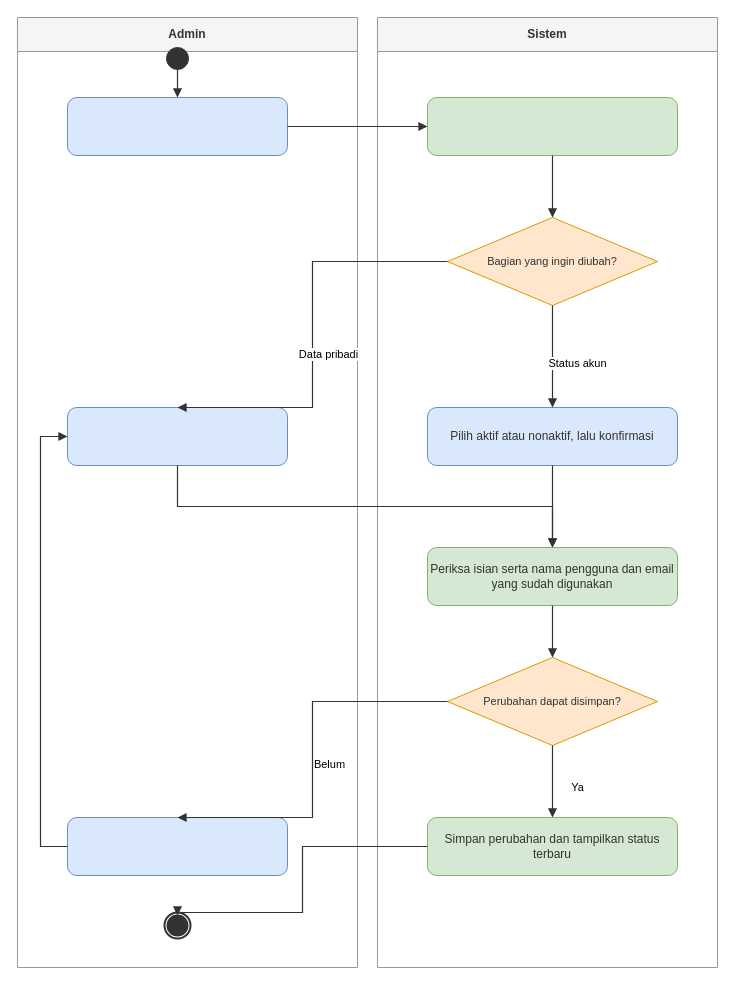
This 735x985 diagram has some shape labels left out. Here are the shapes that lost their labels. From the top down, the centre of each, then its label:
the point at 177,126: Buka daftar dan pilih pelanggan
the point at 552,126: Tampilkan nama, email, nomor telepon, dan status
the point at 177,436: Ubah nama, email, atau nomor telepon
the point at 177,846: Baca penjelasan, lalu perbaiki data pribadi
